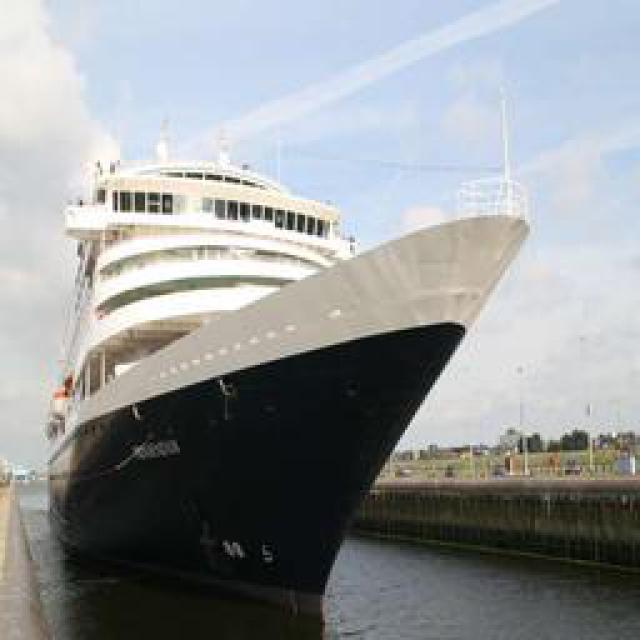Ship: (43, 136, 548, 601)
